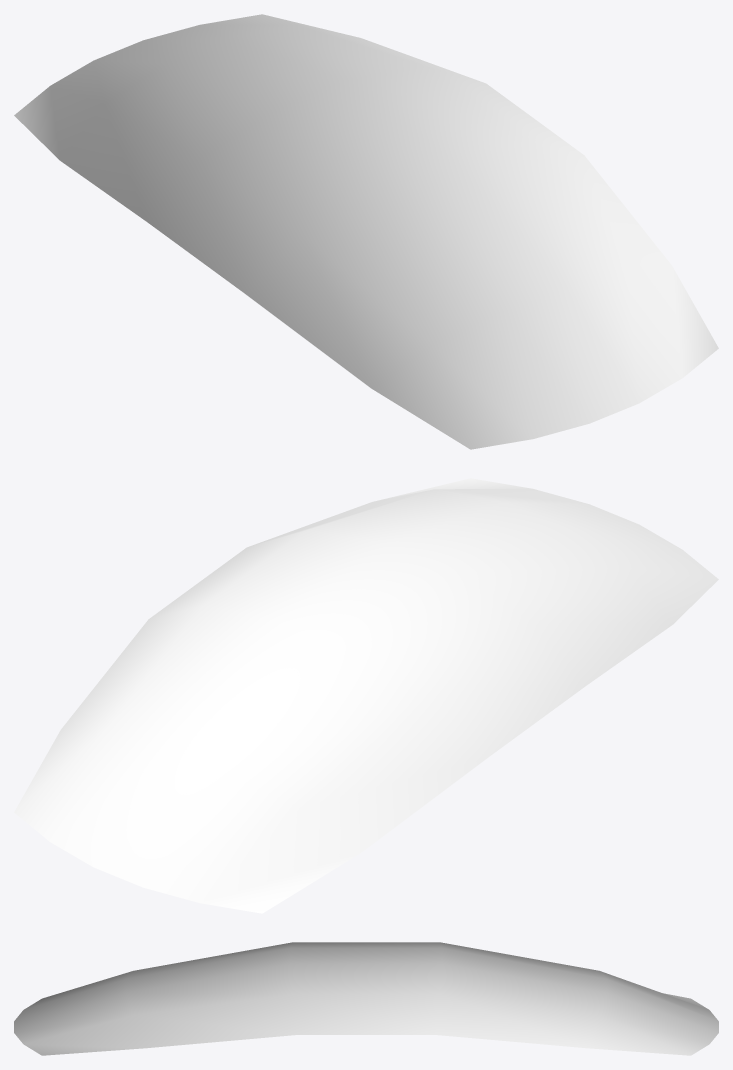
3 views of the same model, one above another, from view 1: azimuth 30°, elevation 25°; view 2: azimuth 150°, elevation 25°; view 3: azimuth 270°, elevation 25° (orthographic). The views are drawn at different scales.
Parts seen in each view (by area): view 1: Plane11; view 2: Plane11; view 3: Plane11.
Part boxes in pixels (x1,y1,x2,y2): Plane11: (14,14,718,449); Plane11: (14,478,718,913); Plane11: (14,942,718,1055).
Size of the model in its own units: 6440 by 2265 by 16298.
